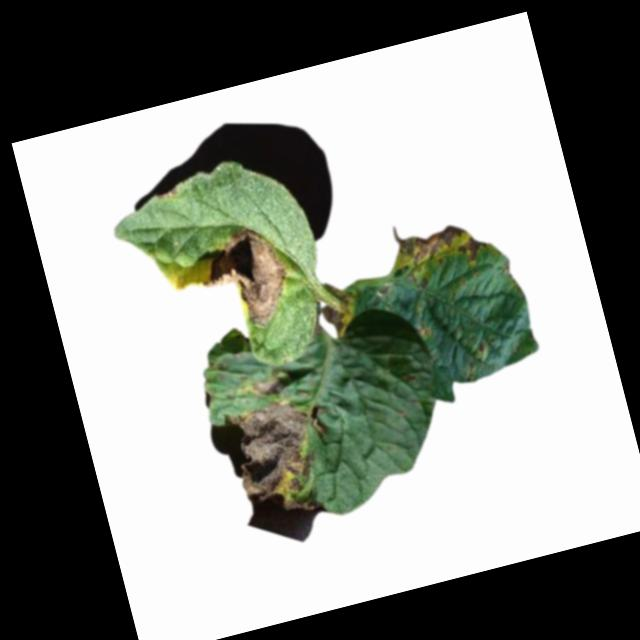Early_blight: (219, 393, 349, 530), (191, 221, 298, 339), (382, 218, 492, 285), (315, 284, 358, 341), (248, 376, 284, 400)
